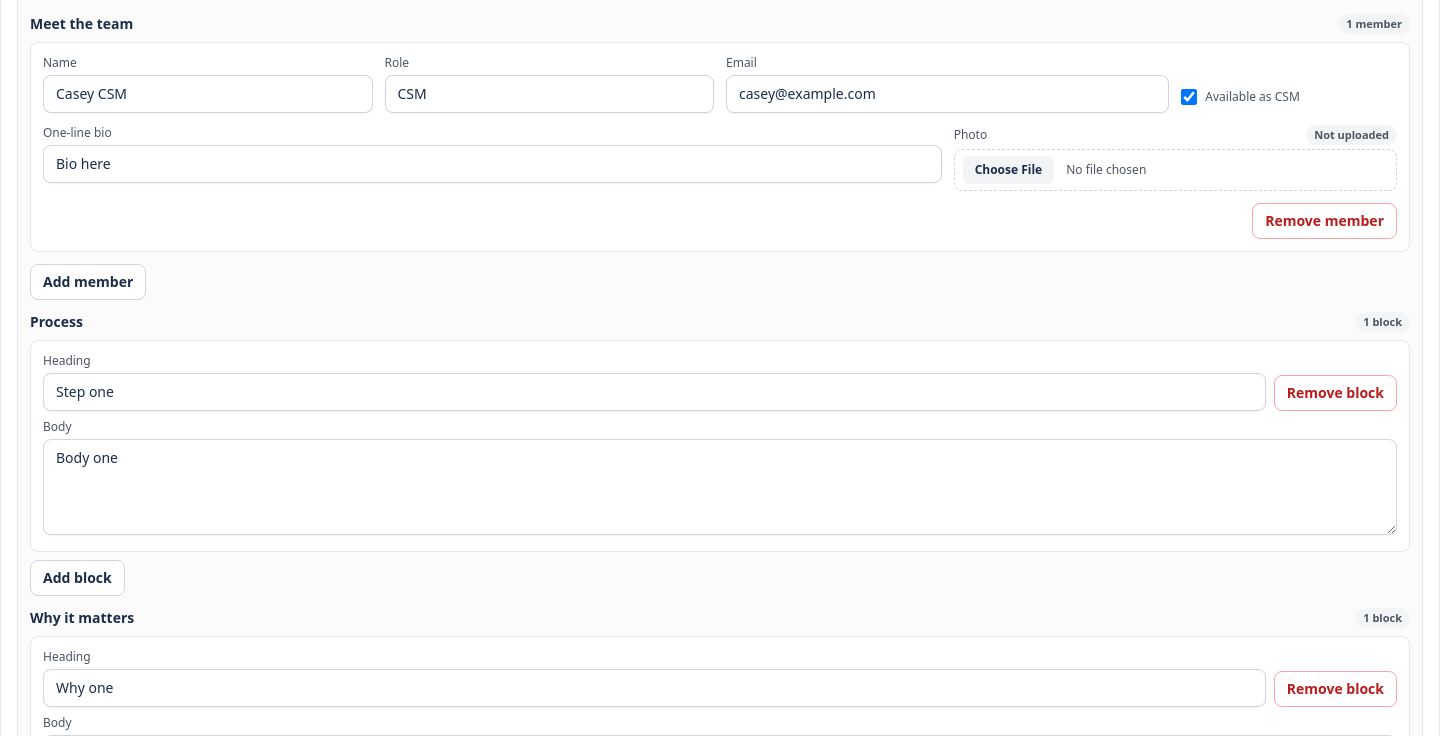
Test: TemplateEditor › a 409 conflict resyncs draft states from the fresh tree, discarding the stale in-progress draft (final review fix #2)
(page scrolled)
Replace the text in the 1st field showing "Step one" with "My local unsaved edit": point(654, 392) x1=43 y1=373 x2=1266 y2=411
(page scrolled)
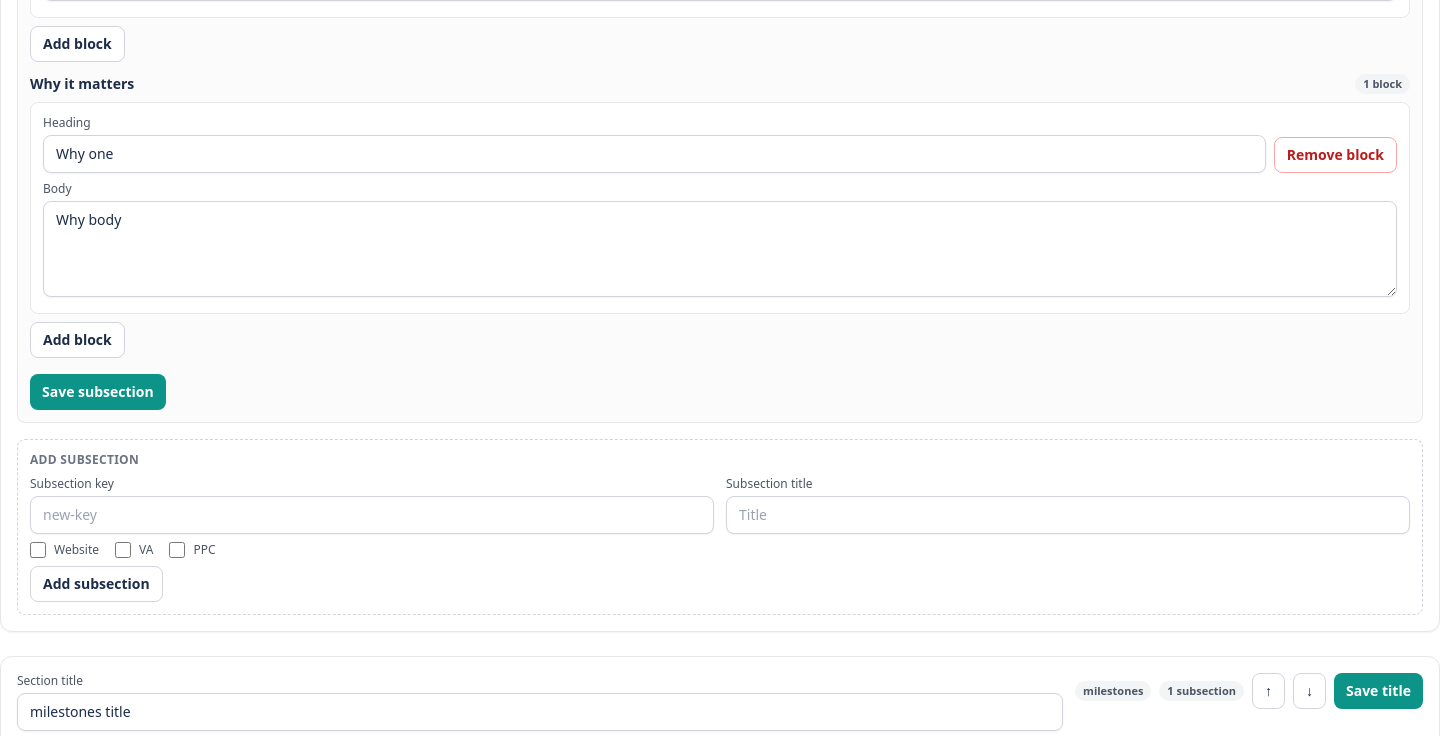
Click the button "Save subsection": point(98, 392) x1=30 y1=374 x2=166 y2=410
(page scrolled)
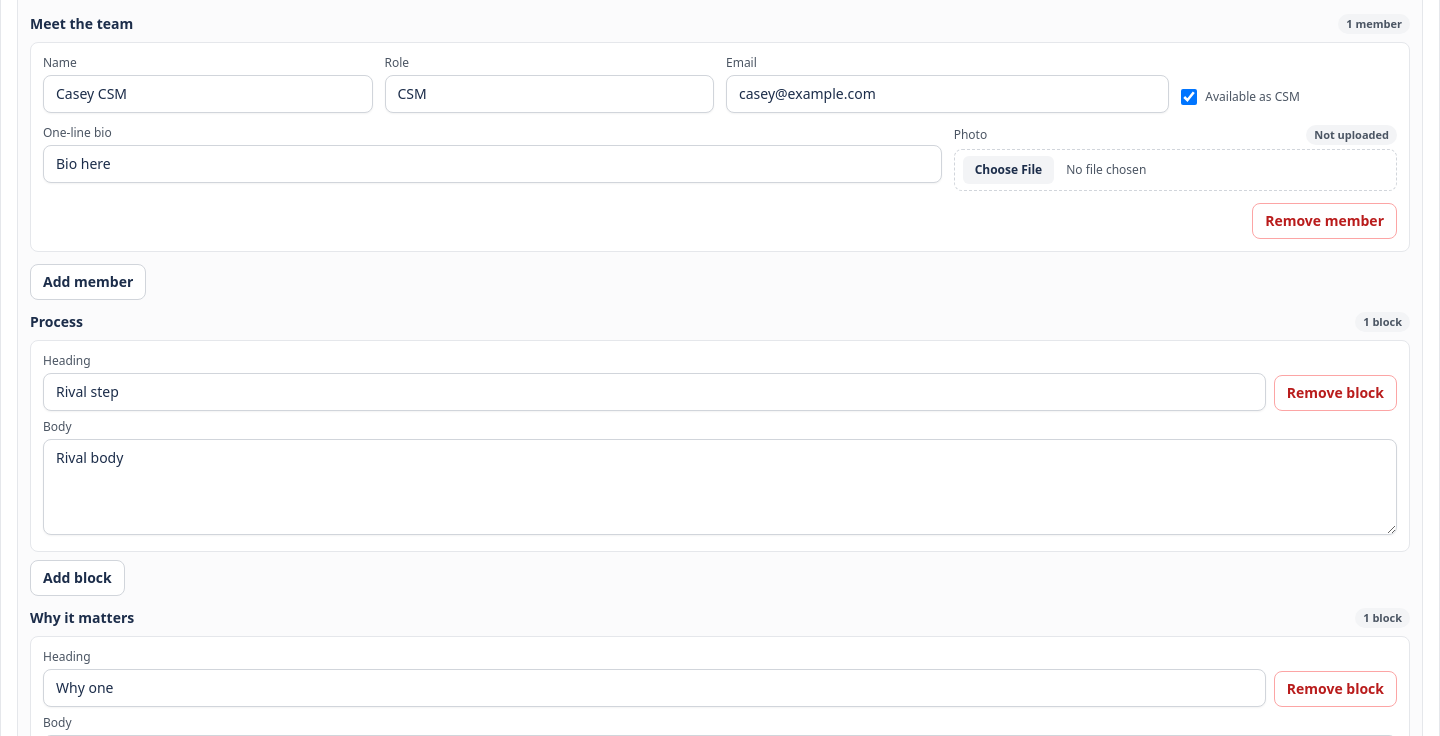
Now the 1st field showing "Rival step" is shown, box x1=43 y1=373 x2=1266 y2=411
